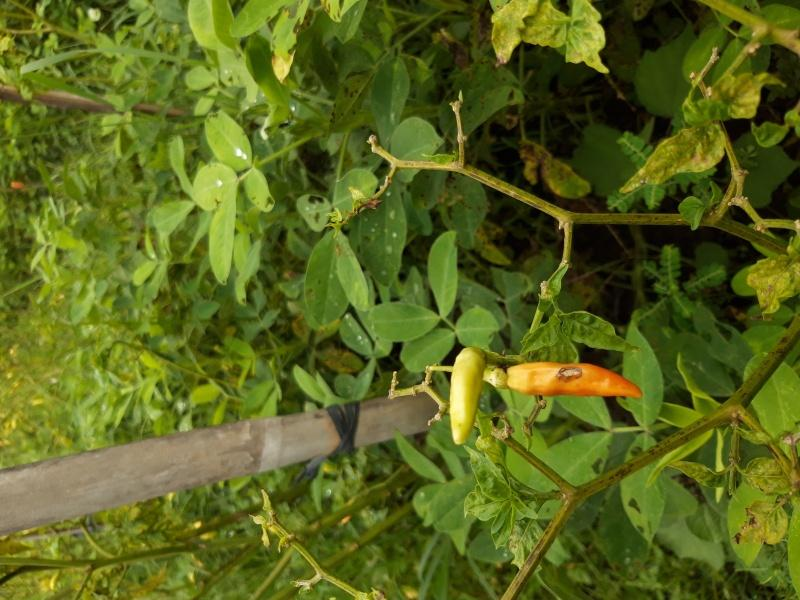antraknosa: (503, 364, 640, 398)
cabai_normal: (449, 346, 484, 446)
